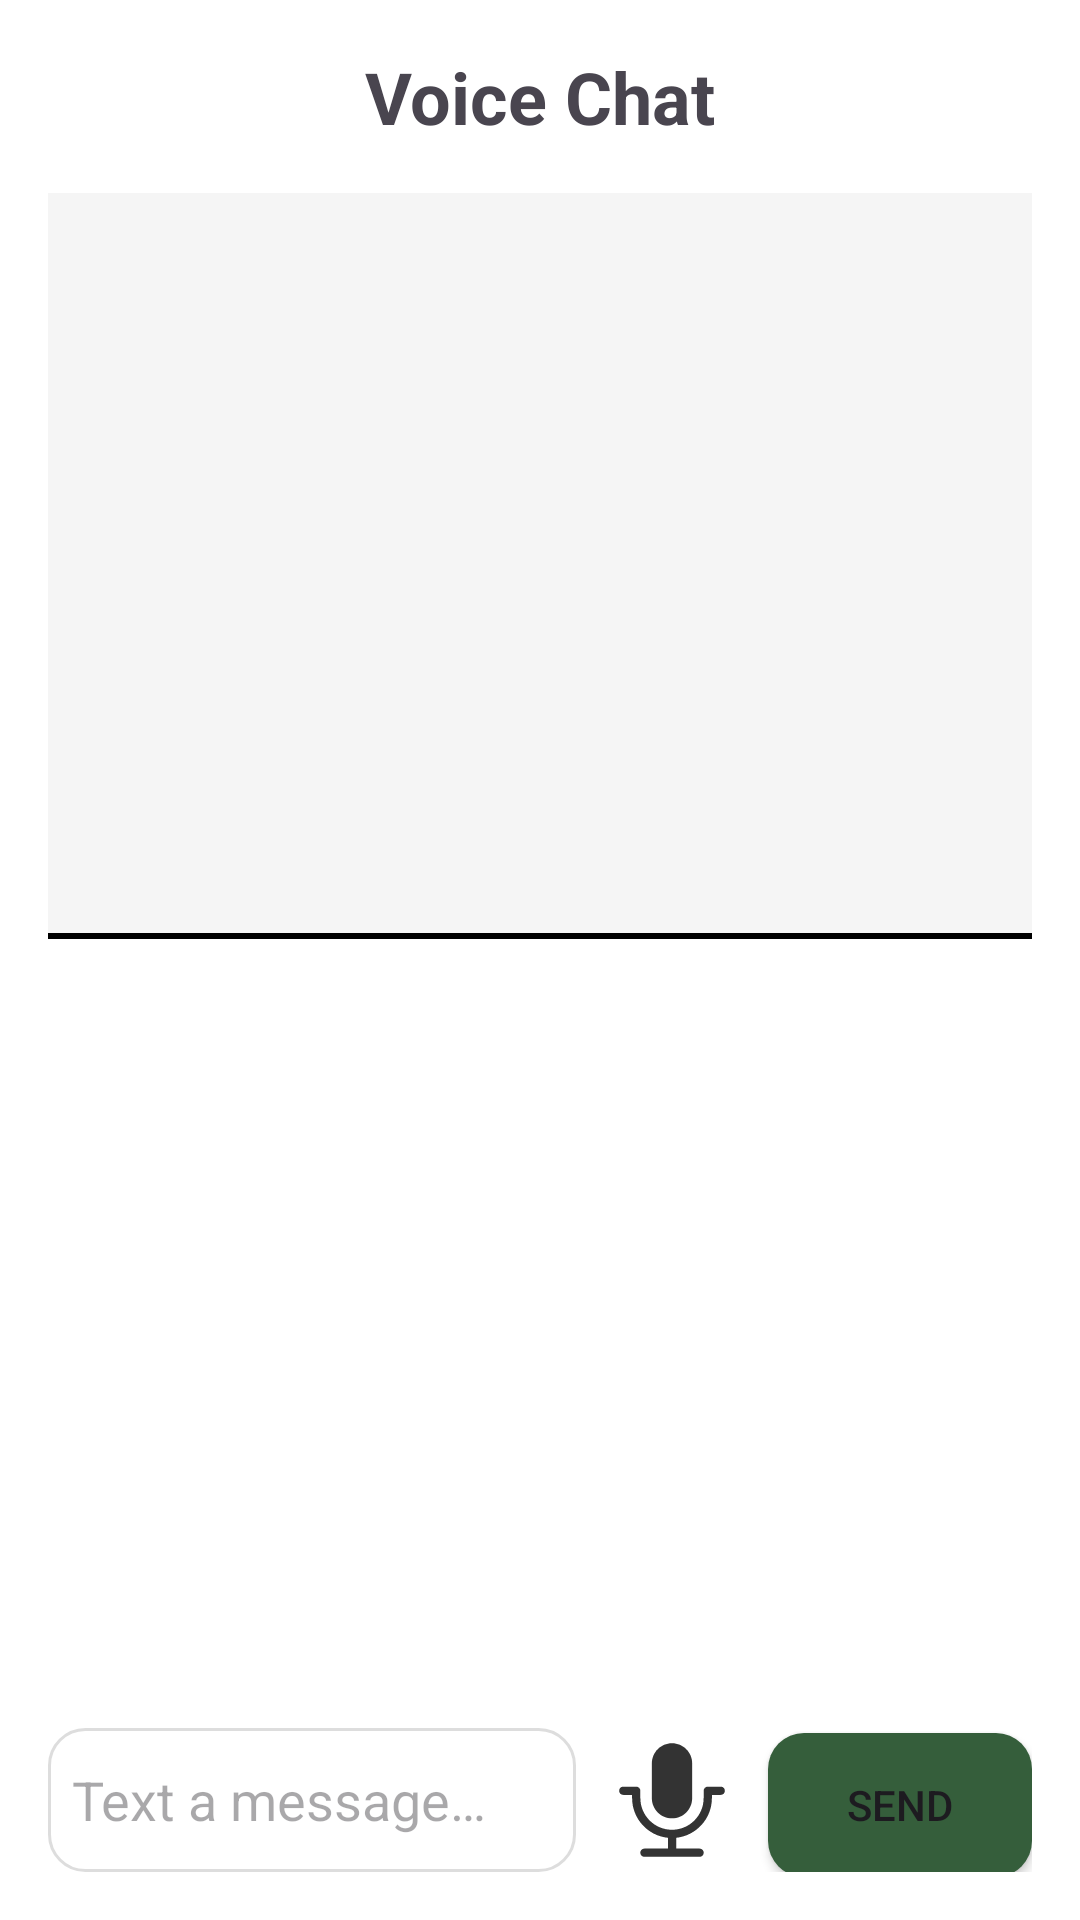

Icons on this 1080 × 1920 Android screen, each with the point to tap as [x,y]:
Record Audio: [672,1800]
